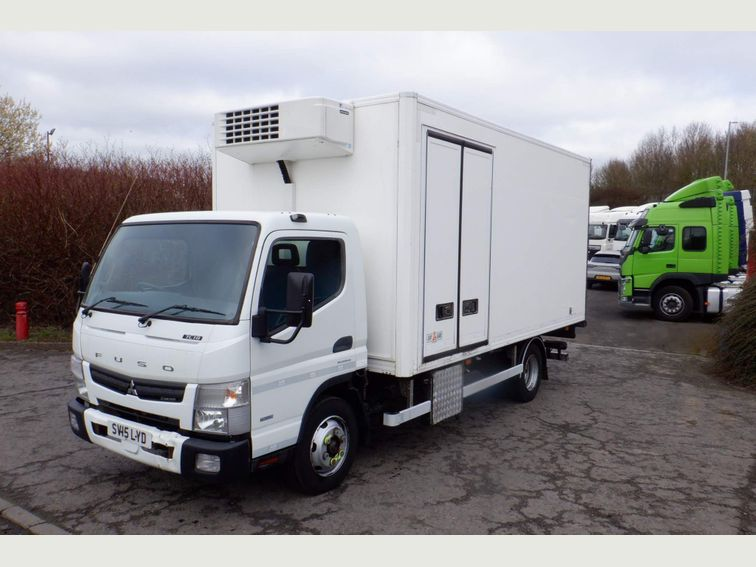Semi: (67, 91, 593, 496), (618, 176, 755, 320)
